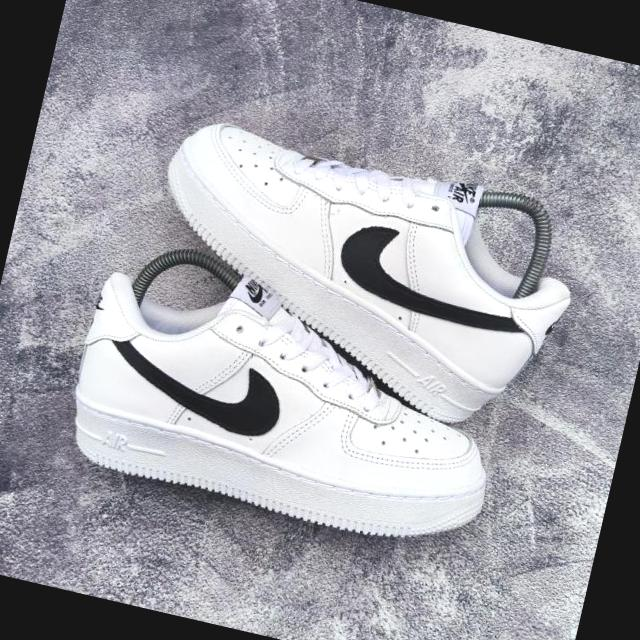nike_fake_airforce: (123, 111, 607, 448), (54, 232, 527, 570)
